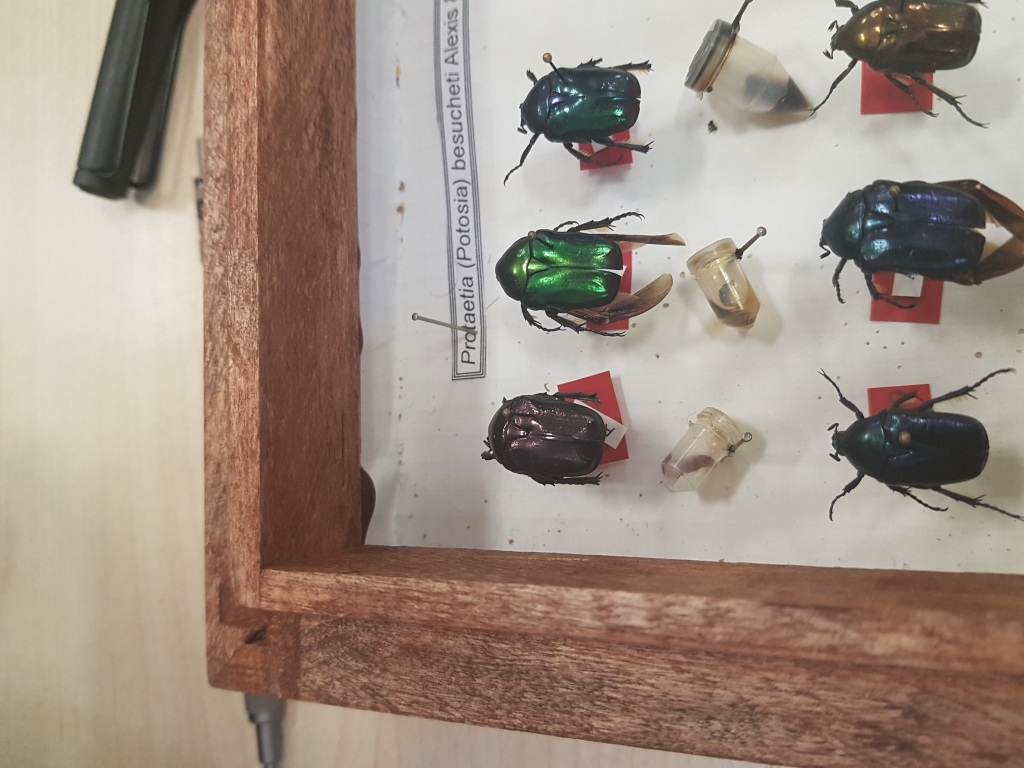Protaetia_besucheti: (795, 353, 1024, 530), (812, 173, 1024, 325), (475, 203, 694, 347), (489, 51, 674, 190), (476, 379, 626, 501)
